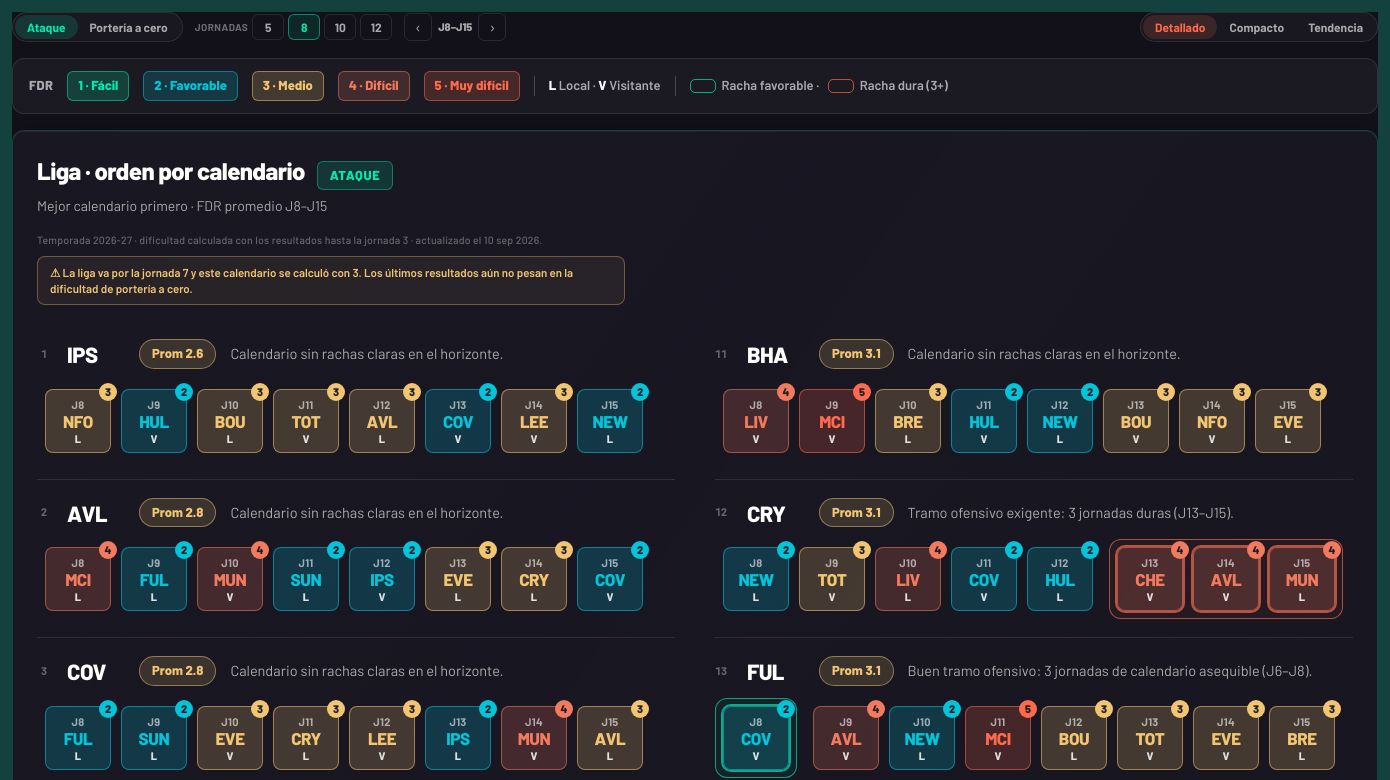
Compact header is one line in the workspace, and nothing is dropped › the note stays reachable: tooltip and an inline panel with the stamp, the warning and the footer
Click the button "Compacto" at coordinates (1257, 27), box [1217,15,1296,39]
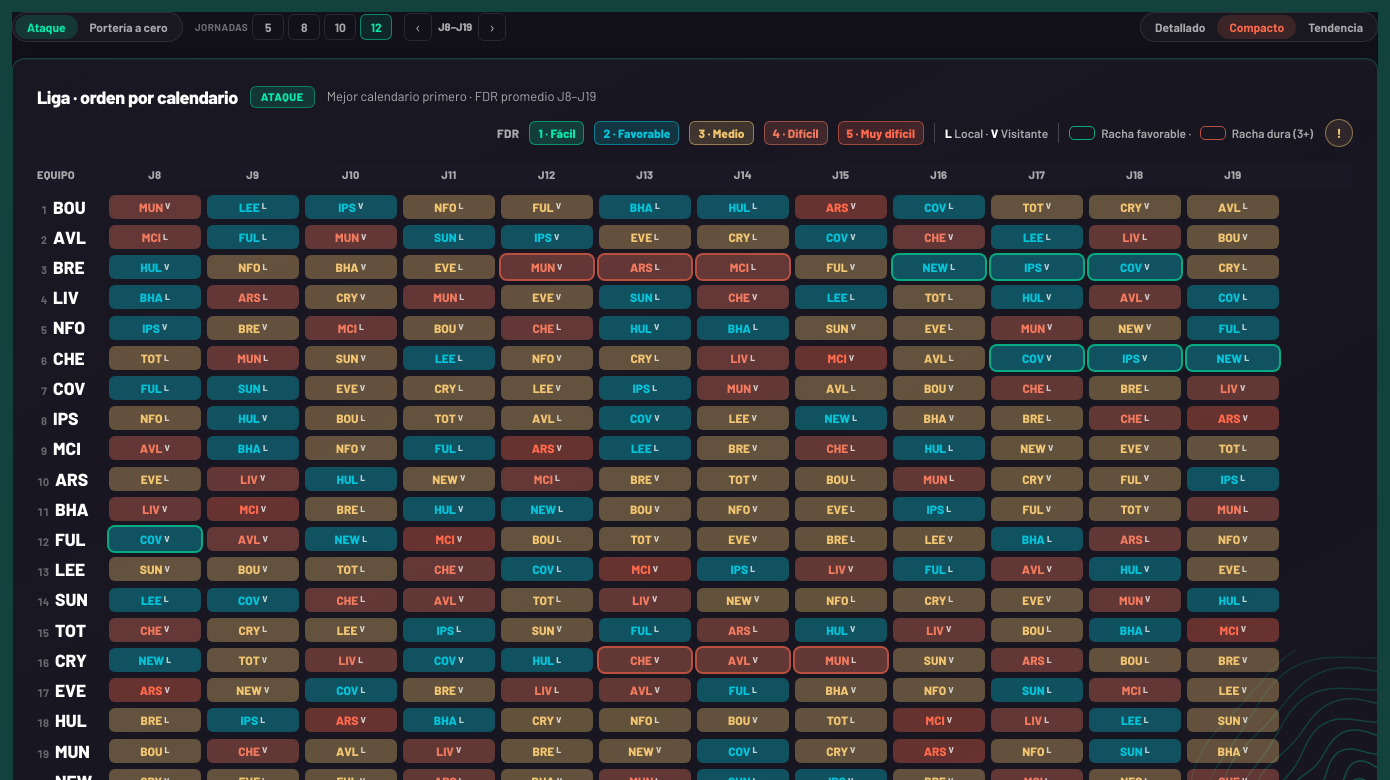
Click the button named "Nota sobre los datos" at coordinates (1339, 133), box [1325,119,1353,147]
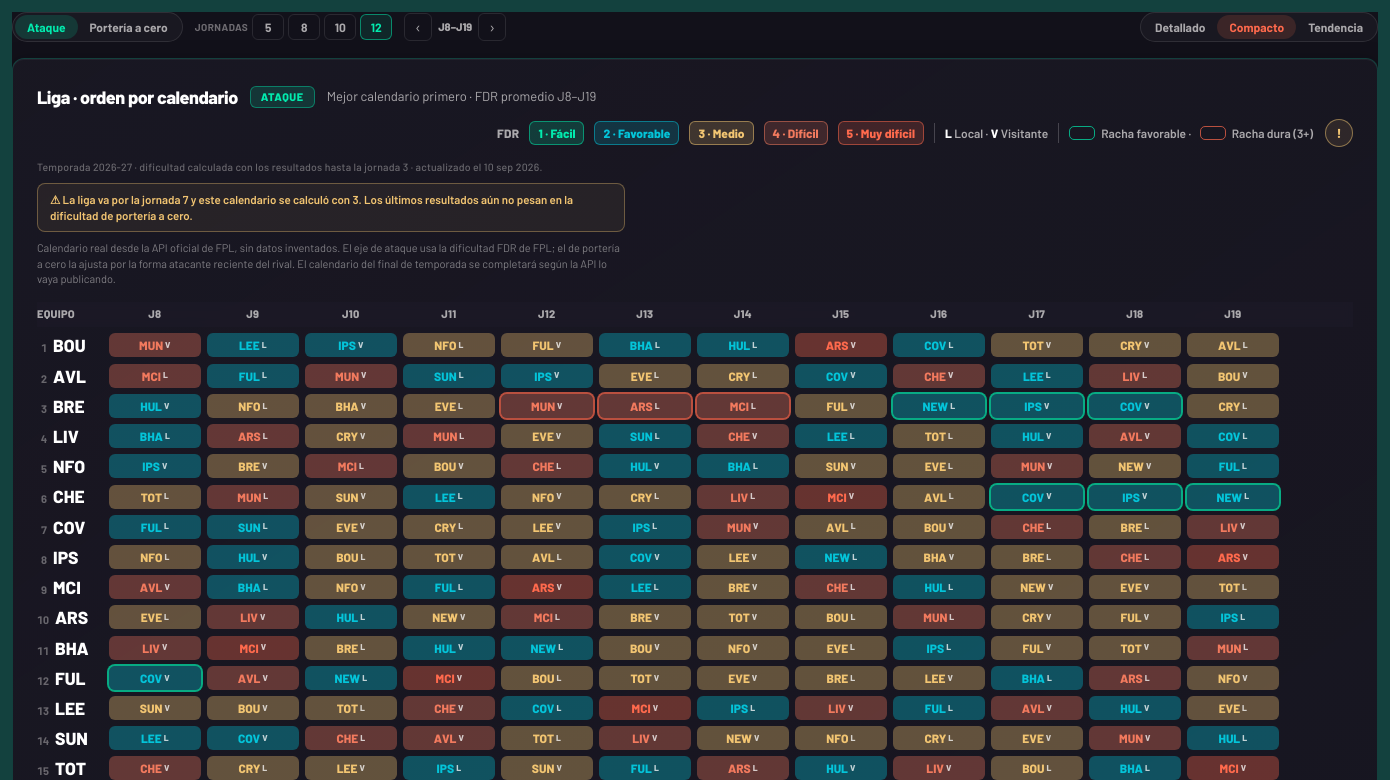
Expected: the text with test id "fixture-provenance-warning" shows "La liga va por la jornada 7", [50,192,573,222]
Expected: the text "Temporada 2026-27" is shown, [37,160,542,173]
Expected: the text "Calendario real desde la API oficial de FPL" is shown, [37,241,620,285]
Click the button named "Nota sobre los datos" at coordinates (1339, 133), box [1325,119,1353,147]
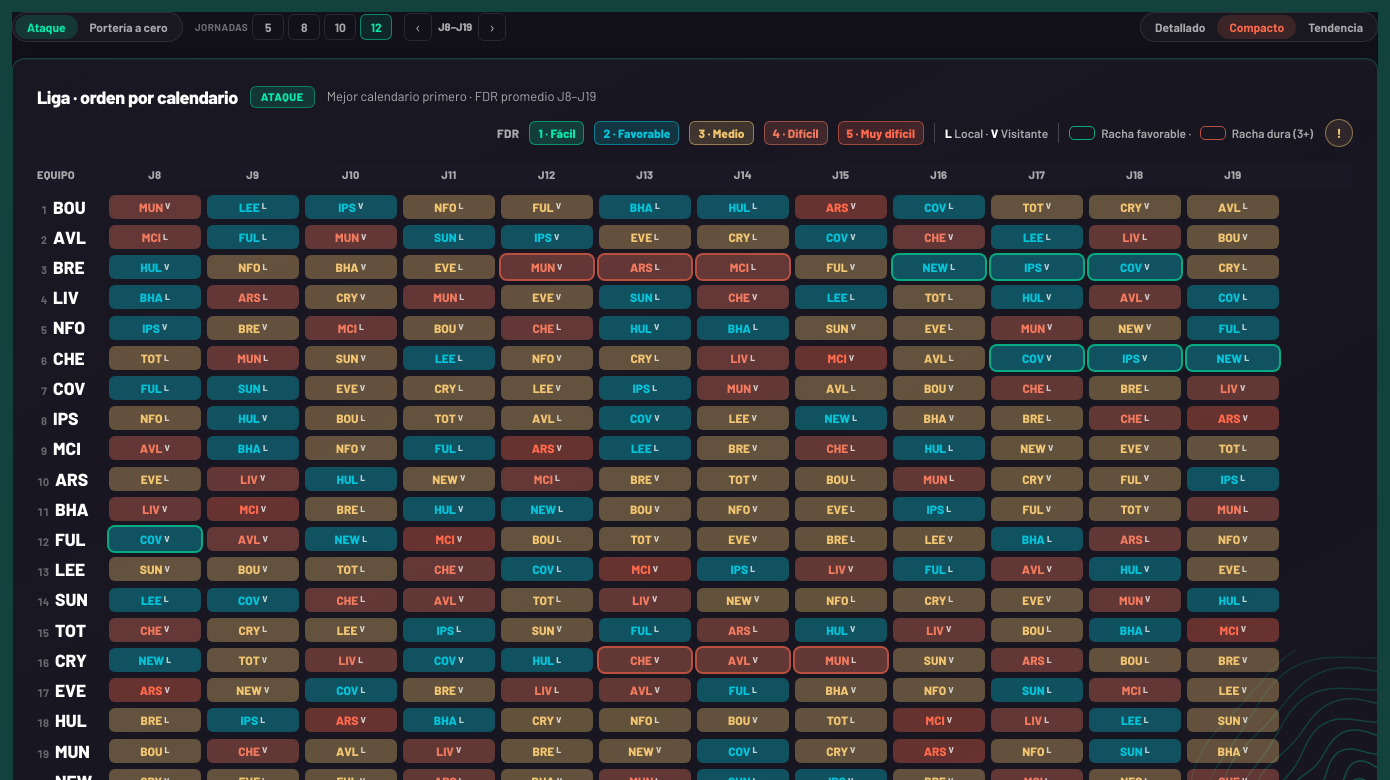
Expected: the element with test id "compact-note" is gone
